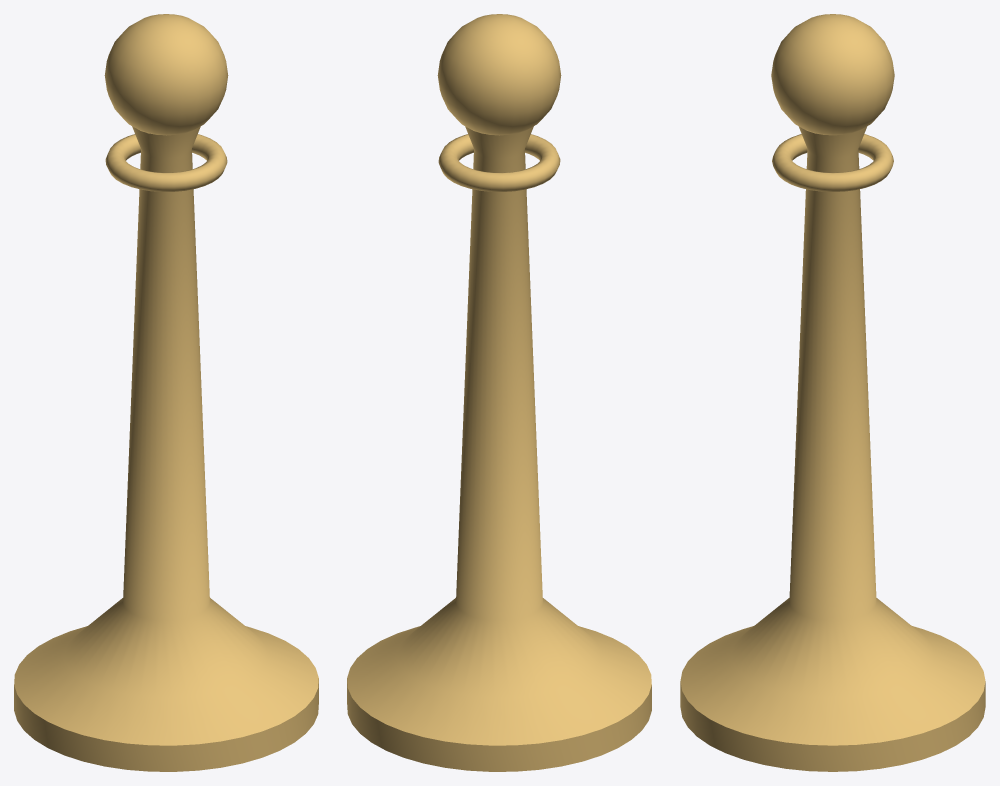
File: royal-court-and-throne-palace-audience-rope-post-3f579151__29387.glb
3 views of the same model, side by side, from view 1: azimuth 30°, elevation 25°; view 2: azimuth 150°, elevation 25°; view 3: azimuth 270°, elevation 25° (orthographic).
Visible parts, largest first — view 1: audience-rope-post; view 2: audience-rope-post; view 3: audience-rope-post.
Boxes of the visible parts, box(x1,y1,x2,y2) form: audience-rope-post: box(14, 14, 318, 771); audience-rope-post: box(347, 14, 651, 771); audience-rope-post: box(680, 14, 985, 771).
Bounding box in the file's own units: 0.42 × 1.04 × 0.42.
